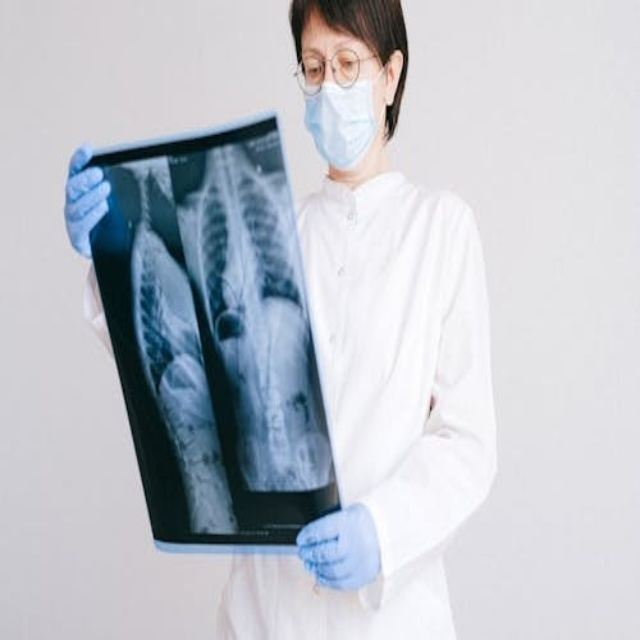Gafas: (294, 49, 383, 92)
Guantes: (296, 503, 381, 594), (64, 144, 111, 261)
Mascara: (303, 66, 386, 170)
